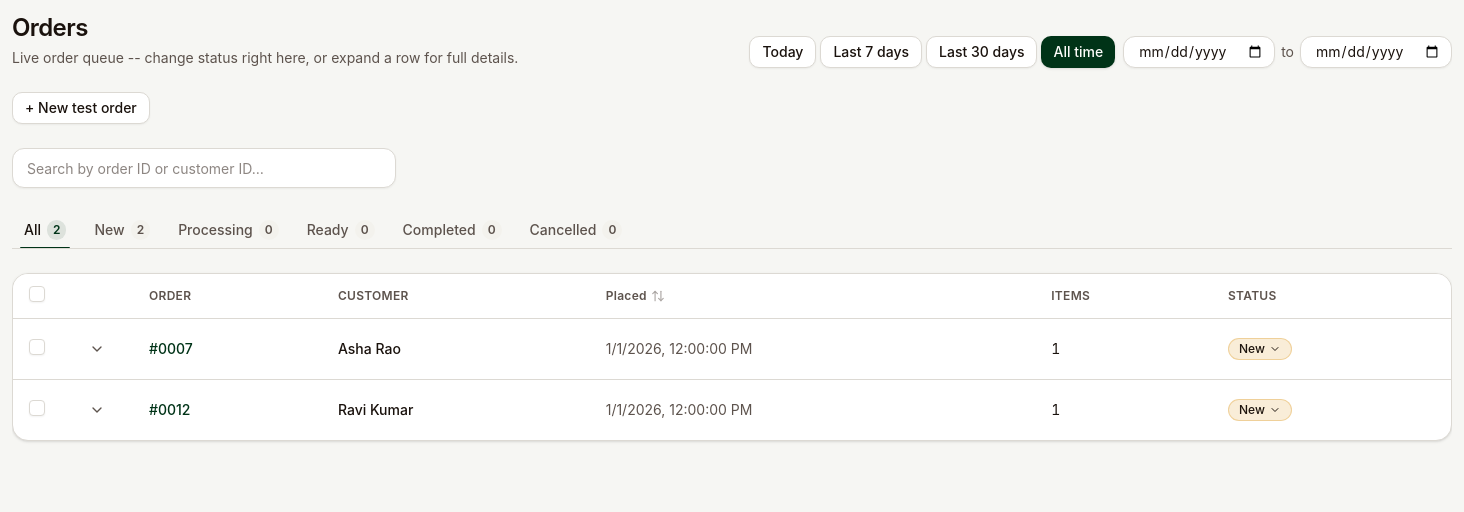
Test: OrdersPage › selects orders via checkboxes and shows a bulk-action bar with the shared legal next status
Expected: the text "Asha Rao" is shown, x1=322 y1=318 x2=590 y2=379
Expected: the text "2 selected" is not shown
Click the checkbox named "Select order #0007" at (37, 346), box x1=29 y1=338 x2=45 y2=354
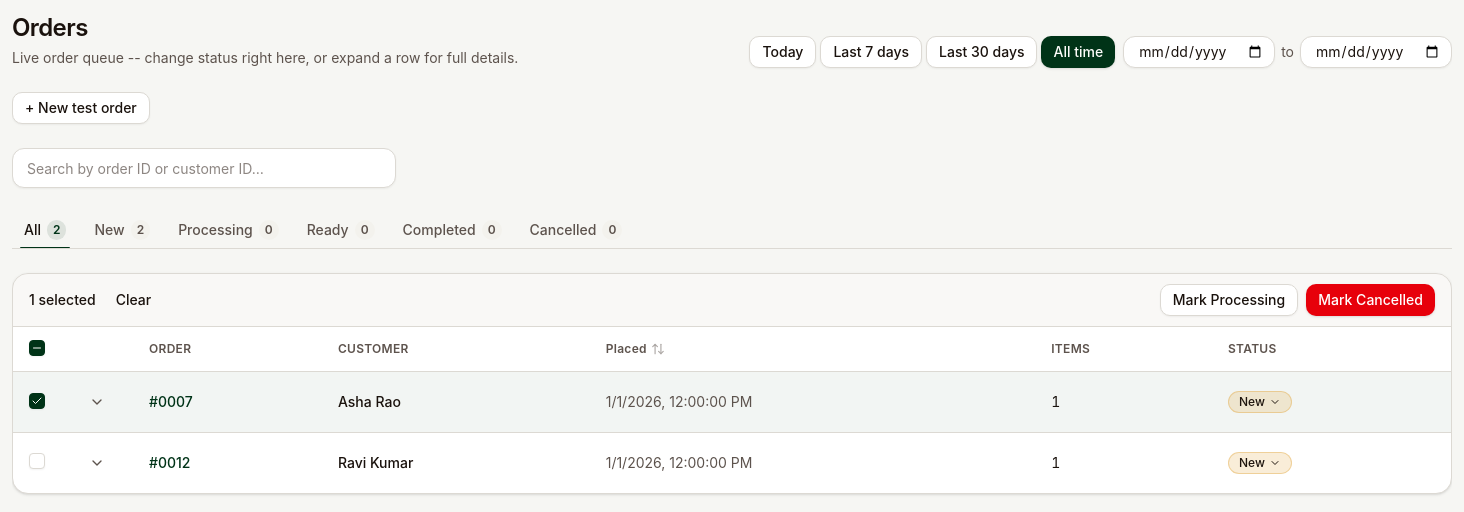
Result: the text "1 selected" is shown at x1=29 y1=290 x2=96 y2=310
Click the checkbox named "Select order #0012" at (37, 460), box x1=29 y1=452 x2=45 y2=468
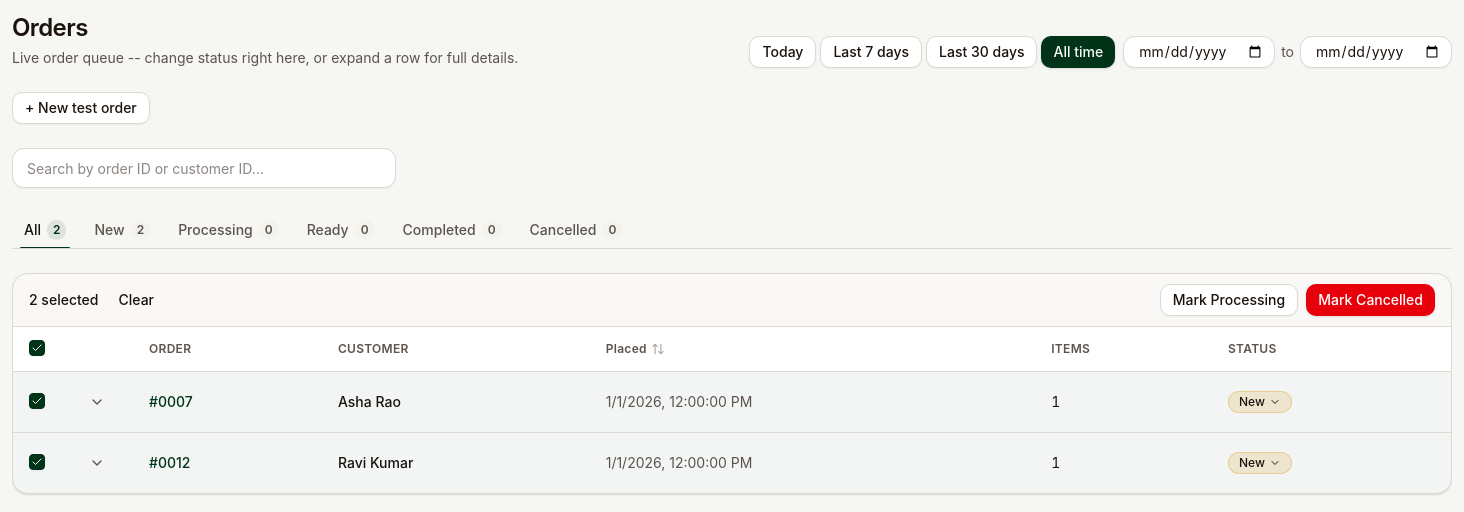
Result: the text "2 selected" is shown at x1=29 y1=290 x2=98 y2=310
Click the button "Mark Processing" at (1229, 300), box x1=1160 y1=284 x2=1298 y2=316
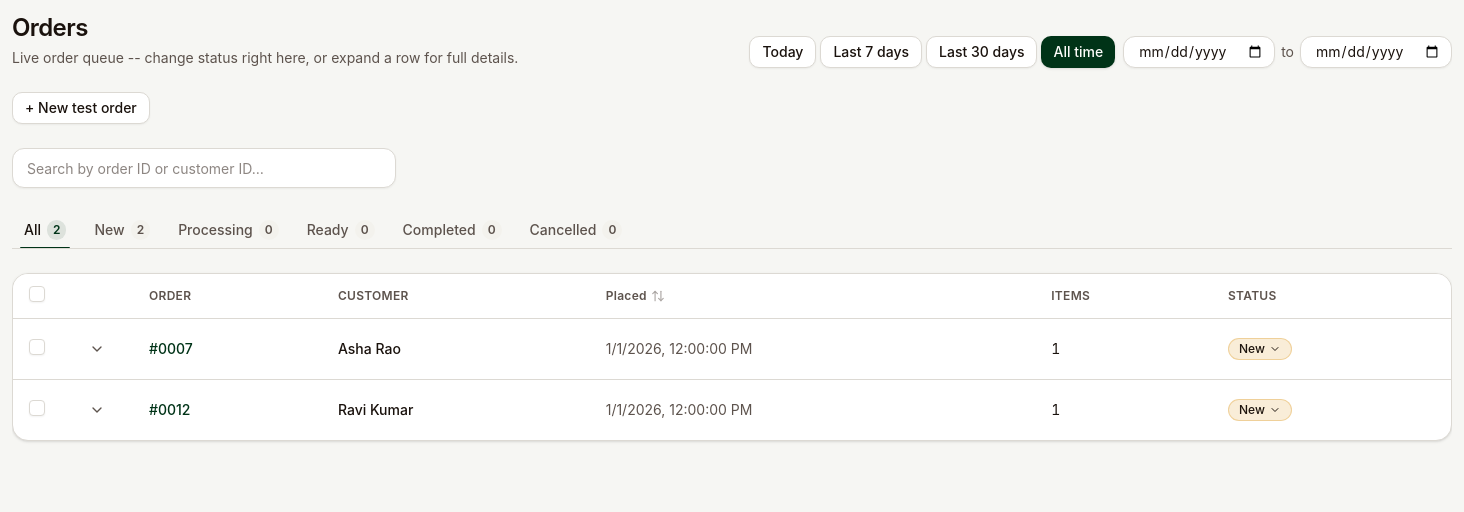
Result: the text "2 selected" is gone
